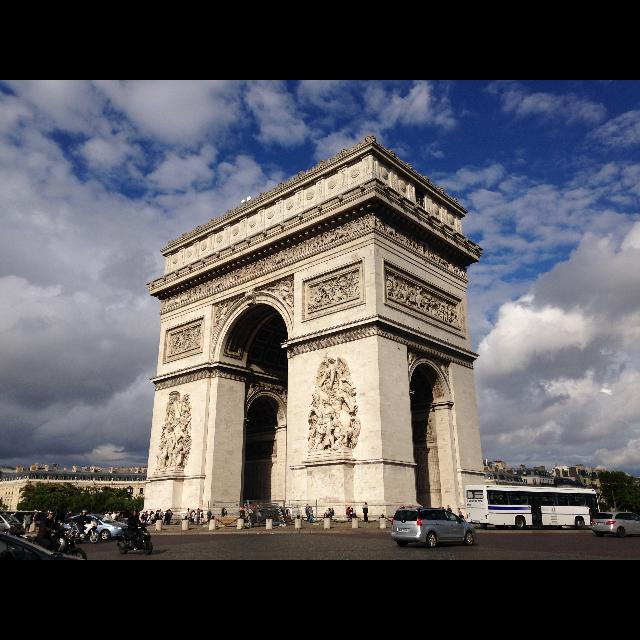head: (48, 510, 56, 520), (83, 510, 87, 516), (134, 511, 138, 517), (26, 512, 29, 516), (34, 511, 38, 514), (105, 511, 108, 514), (70, 510, 72, 514), (157, 510, 159, 514), (307, 504, 309, 508), (365, 502, 367, 506), (222, 506, 224, 509), (348, 506, 350, 509), (113, 512, 115, 514), (143, 512, 145, 514), (146, 511, 148, 513), (151, 511, 153, 513), (153, 512, 155, 514), (159, 510, 161, 512), (166, 510, 168, 512), (188, 509, 190, 511), (193, 510, 195, 512), (198, 508, 200, 510), (201, 510, 203, 512), (209, 510, 211, 512), (290, 506, 292, 508), (309, 506, 311, 508), (329, 508, 331, 510), (331, 508, 333, 510), (351, 508, 353, 510), (448, 506, 450, 508), (458, 508, 460, 510)
person: (127, 507, 149, 551), (77, 509, 93, 541), (23, 511, 33, 533), (110, 510, 120, 530), (31, 509, 39, 533), (65, 509, 73, 531), (304, 503, 312, 522), (220, 506, 228, 524), (457, 507, 465, 525), (348, 507, 358, 521), (362, 502, 368, 524), (446, 504, 452, 526), (162, 510, 170, 526), (346, 506, 354, 522), (105, 512, 112, 530), (185, 507, 192, 525), (326, 508, 336, 520), (158, 508, 164, 526), (196, 508, 202, 526), (206, 508, 212, 526), (288, 503, 294, 521), (308, 506, 314, 524), (144, 509, 150, 526), (154, 509, 160, 526), (198, 509, 204, 526), (140, 512, 146, 528), (148, 510, 154, 526), (324, 507, 332, 519), (150, 512, 156, 526), (192, 510, 196, 524)
